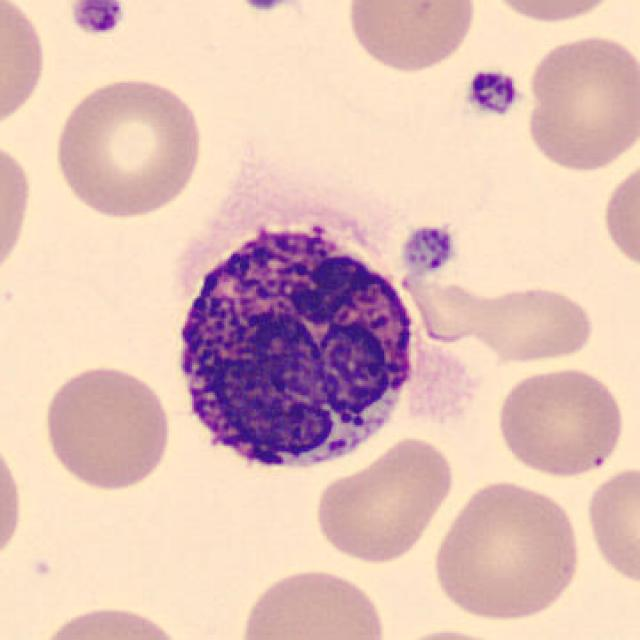Basophil: (160, 196, 434, 490)
Platelets: (396, 222, 458, 279), (462, 65, 523, 118), (68, 0, 128, 39), (233, 0, 300, 14)
RBC: (50, 72, 208, 222), (428, 474, 585, 624), (309, 434, 457, 566), (39, 359, 174, 494), (521, 28, 638, 175), (492, 363, 628, 480), (235, 564, 391, 640), (470, 280, 598, 365), (343, 0, 480, 76), (583, 462, 640, 589), (0, 0, 50, 136), (32, 599, 190, 640), (0, 132, 36, 286), (599, 153, 638, 275), (0, 430, 28, 571), (478, 0, 627, 26), (382, 624, 521, 640)
